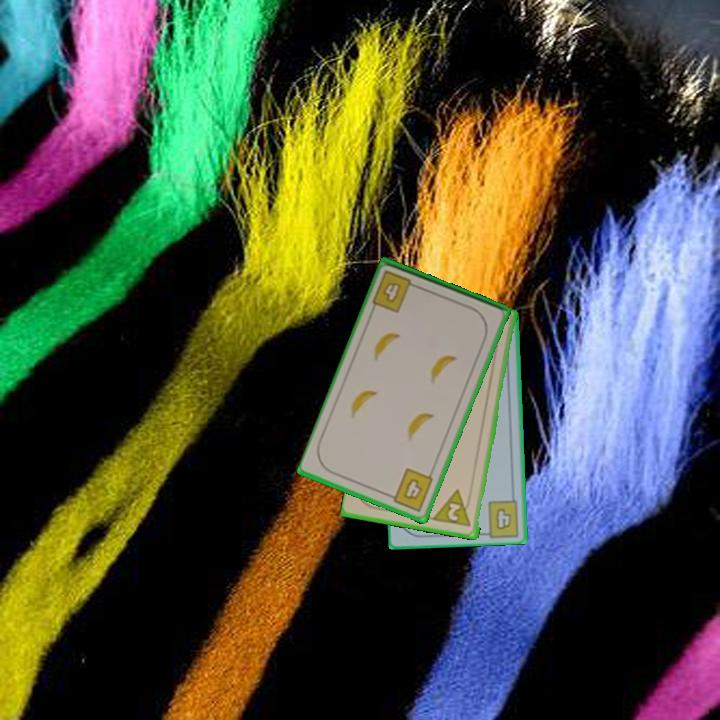2p: (431, 486, 474, 530)
4b: (384, 464, 436, 514), (369, 267, 422, 316), (492, 505, 515, 533)
